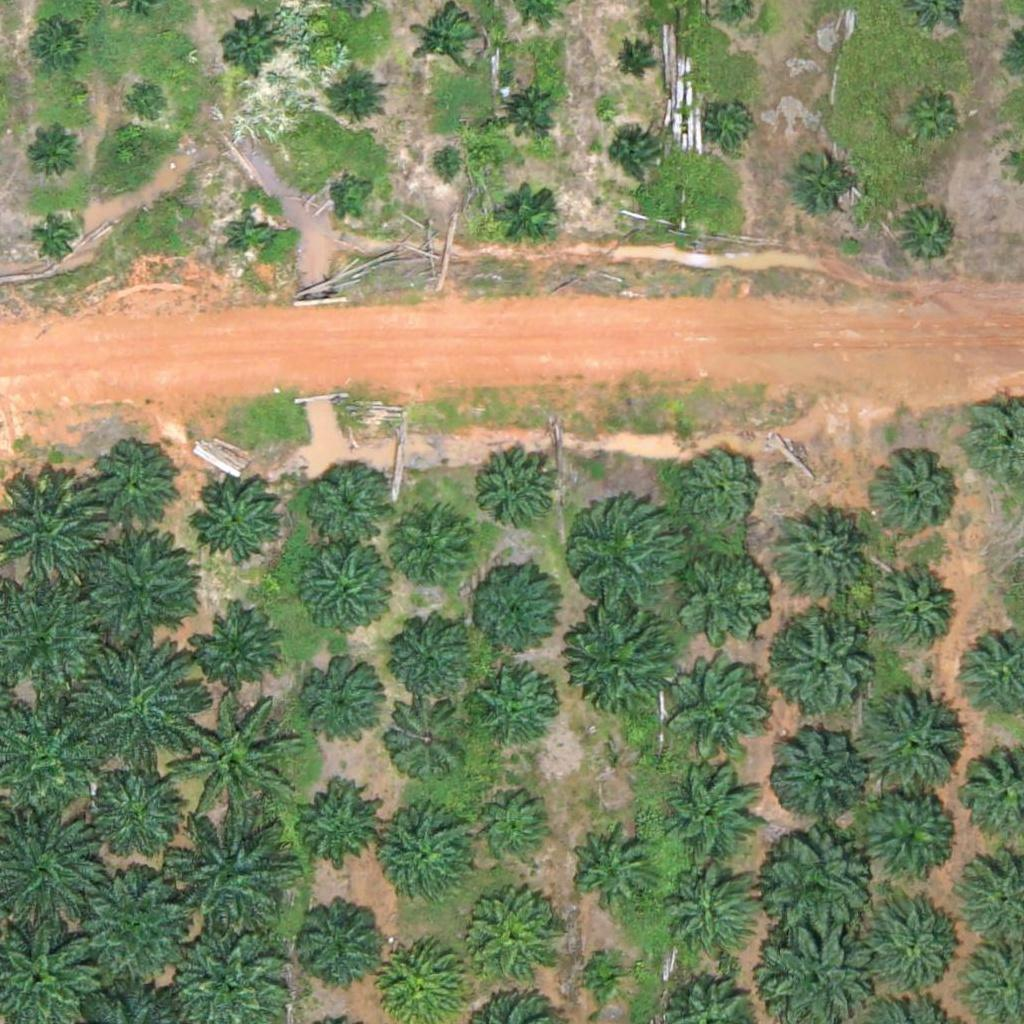Kelapa_Sawit: (70, 645, 195, 771), (70, 871, 195, 997), (170, 814, 295, 940), (167, 698, 292, 824), (564, 492, 689, 618), (74, 524, 199, 649), (852, 685, 964, 798), (769, 613, 881, 726), (762, 832, 874, 945), (863, 891, 963, 992), (855, 783, 955, 884), (771, 505, 871, 606), (663, 868, 763, 969), (658, 762, 758, 863), (673, 659, 773, 760), (576, 610, 676, 711), (767, 725, 867, 825), (380, 810, 480, 910), (677, 537, 777, 637), (864, 565, 952, 653), (95, 770, 183, 858), (298, 549, 386, 637), (303, 664, 391, 752), (291, 776, 379, 864), (295, 893, 383, 981), (467, 899, 555, 987), (195, 602, 282, 691), (469, 565, 556, 654), (301, 457, 388, 545), (388, 611, 475, 699), (874, 454, 961, 542), (92, 447, 179, 535), (190, 473, 277, 561), (383, 692, 470, 780), (391, 503, 478, 591), (477, 446, 564, 534), (474, 673, 561, 761), (678, 450, 765, 538), (568, 823, 655, 911), (788, 144, 863, 220), (409, 4, 484, 80), (479, 789, 554, 864), (499, 181, 562, 244), (326, 71, 389, 134), (498, 76, 561, 139), (218, 19, 281, 82), (898, 204, 961, 267), (898, 86, 961, 149), (31, 20, 81, 71), (331, 169, 381, 220), (225, 211, 275, 262), (124, 78, 174, 129), (26, 131, 76, 181), (608, 131, 658, 181), (708, 98, 758, 148), (581, 948, 631, 998), (32, 212, 82, 262), (426, 147, 464, 185), (612, 44, 649, 82)
